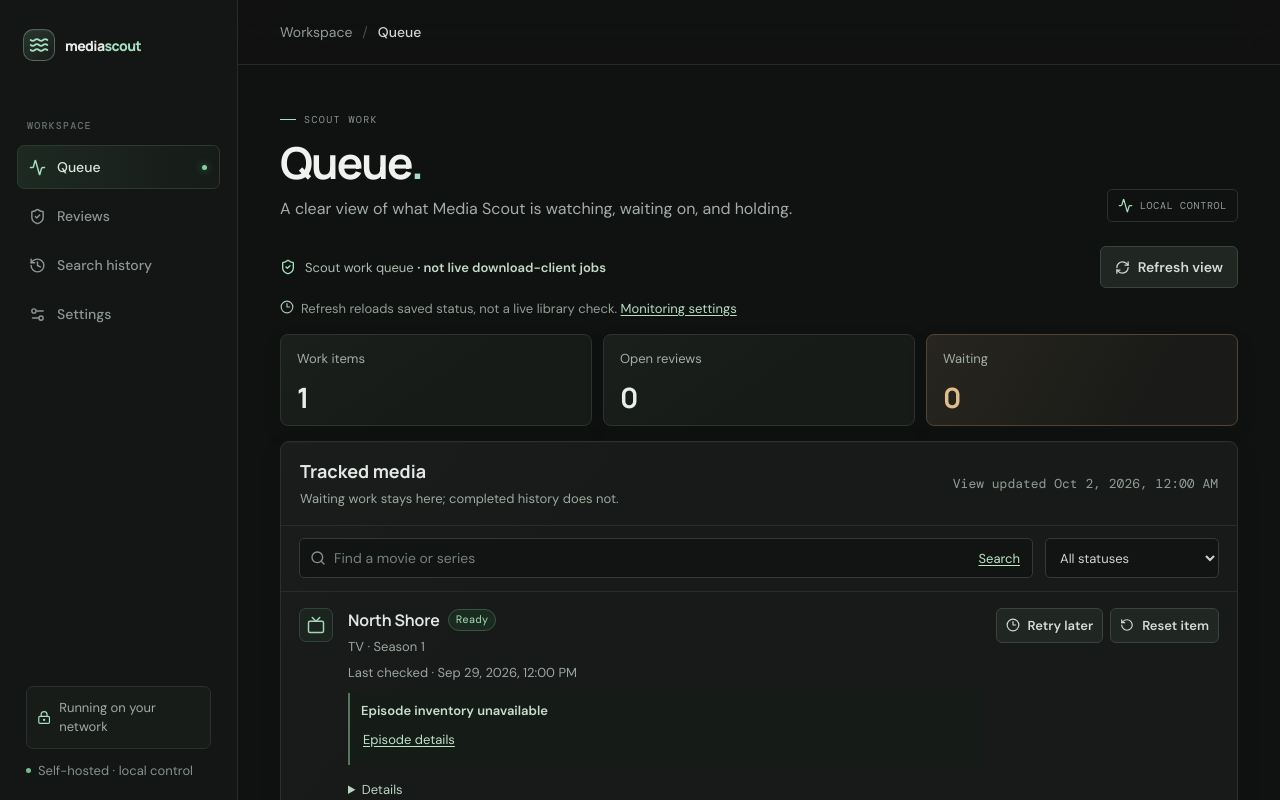
Test: operations dashboard › labels saved file evidence unknown rather than current when its observation is unknown
The image size is (1280, 800).
Expected: the heading "North Shore" is shown, [348, 608, 440, 632]
Click the button "Episode details" at coordinates (409, 740), box [361, 726, 457, 756]
(page scrolled)
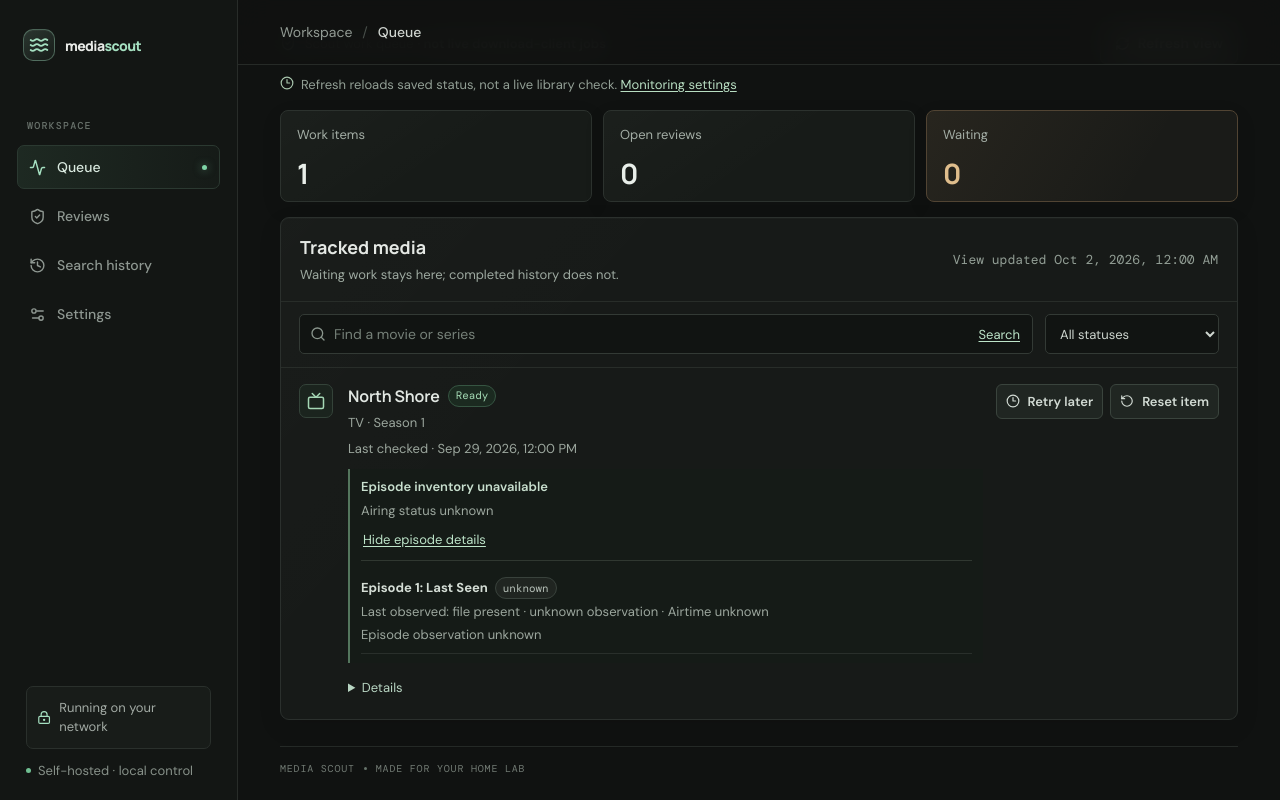
Result: the text "Last observed: file present · unknown observation" is shown at [361, 603, 658, 620]
